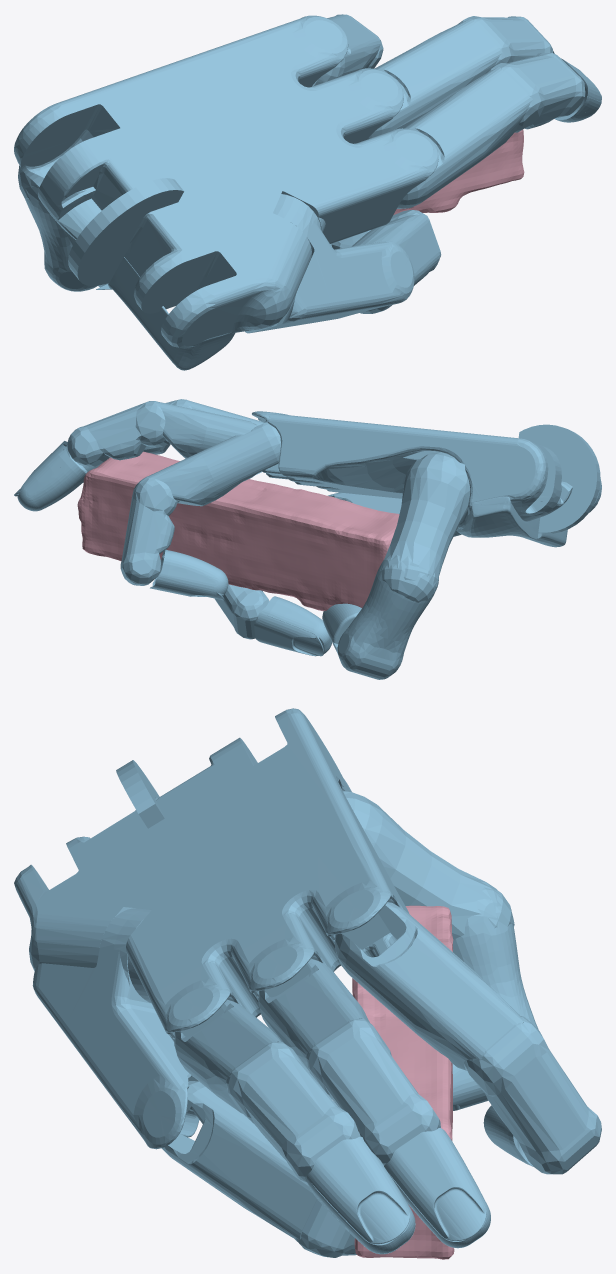
3 views of the same model, one above another, from view 1: azimuth 30°, elevation 25°; view 2: azimuth 150°, elevation 25°; view 3: azimuth 270°, elevation 25° (orthographic). The views are drawn at different scales.
Visible parts, largest first — view 1: hand, world; view 2: hand, world; view 3: hand, world.
Boxes of the visible parts, x1,y1,x2,y2 form: hand: [14, 14, 601, 370]; world: [393, 129, 524, 214]; hand: [14, 399, 601, 679]; world: [77, 451, 399, 611]; hand: [14, 708, 601, 1257]; world: [352, 905, 454, 1259].
Size of the model in its own units: 0.2017 by 0.0943 by 0.1375.
